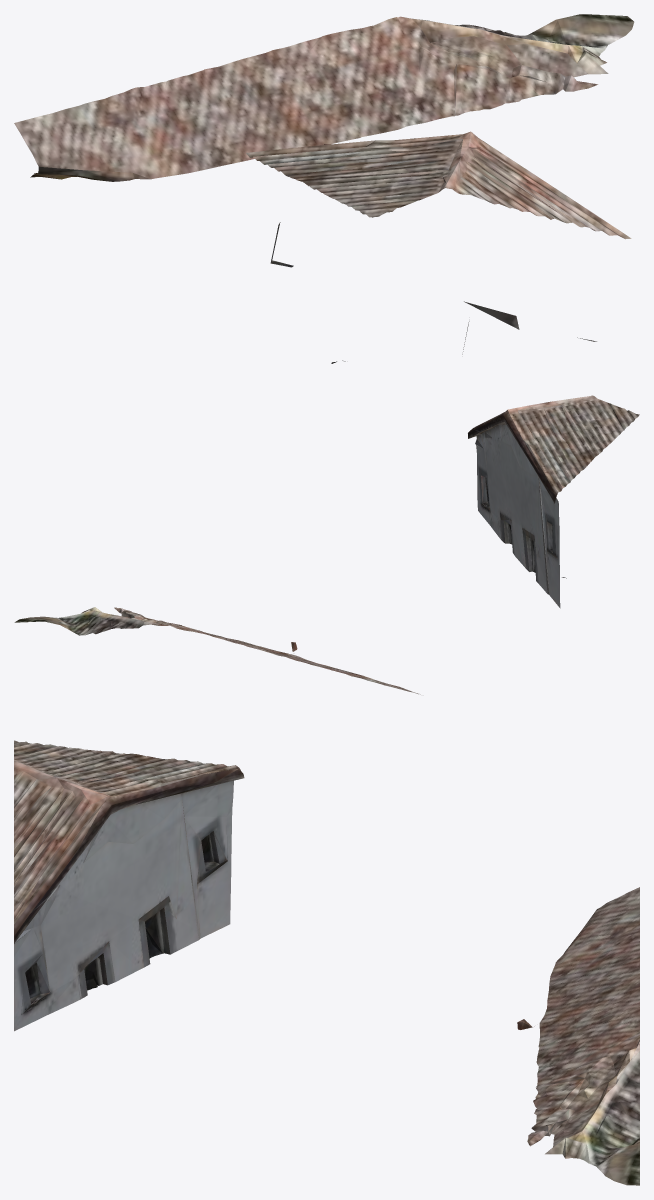
3 renders of one model, top to bottom at view 1: azimuth 30°, elevation 25°; view 2: azimuth 150°, elevation 25°; view 3: azimuth 270°, elevation 25°, orthographic. The views are drawn at different scales.
Bounding box in the file's own units: 13.24 × 4.58 × 13.4.
1 material, 1 textured.
